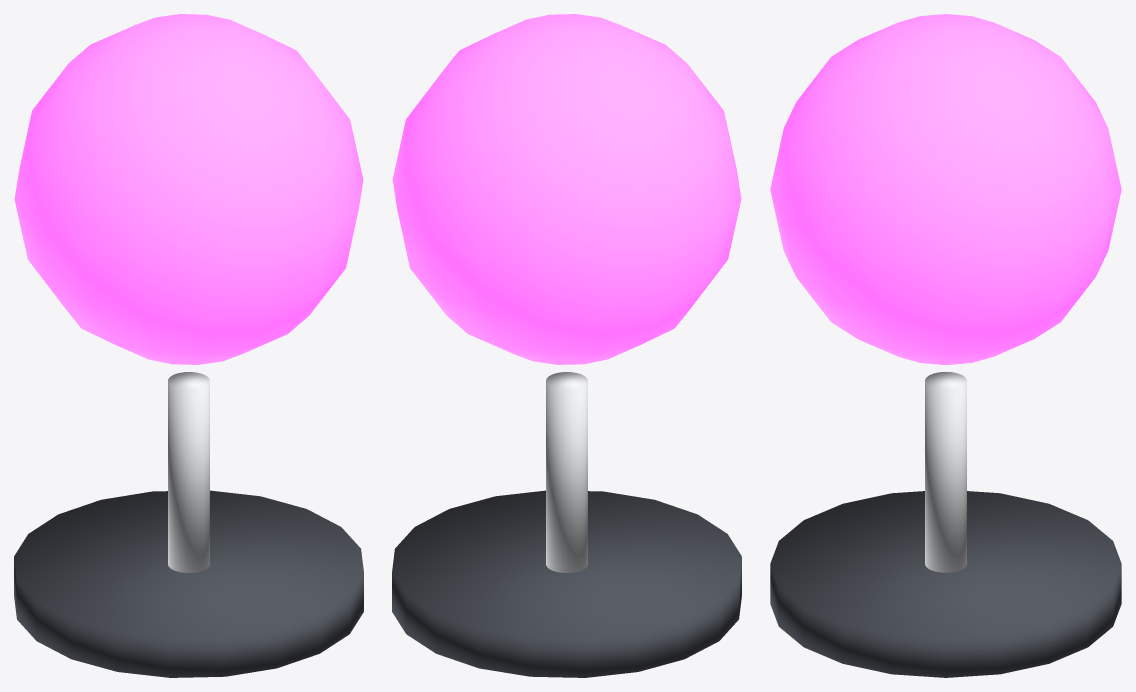
The model's file is table_lamp_orb.glb.
The picture shows the model from 3 angles, left to right: view 1: azimuth 30°, elevation 25°; view 2: azimuth 150°, elevation 25°; view 3: azimuth 270°, elevation 25°; orthographic projection.
Visible parts, largest first — view 1: GD_table_lamp_orb__m2, GD_table_lamp_orb__m0, GD_table_lamp_orb__m1; view 2: GD_table_lamp_orb__m2, GD_table_lamp_orb__m0, GD_table_lamp_orb__m1; view 3: GD_table_lamp_orb__m2, GD_table_lamp_orb__m0, GD_table_lamp_orb__m1.
Boxes of the visible parts, x1,y1,x2,y2 form: GD_table_lamp_orb__m2: (14,14,363,364); GD_table_lamp_orb__m0: (14,490,363,677); GD_table_lamp_orb__m1: (168,372,209,572); GD_table_lamp_orb__m2: (392,14,741,364); GD_table_lamp_orb__m0: (392,490,741,677); GD_table_lamp_orb__m1: (546,372,587,572); GD_table_lamp_orb__m2: (770,14,1121,364); GD_table_lamp_orb__m0: (770,491,1121,677); GD_table_lamp_orb__m1: (925,372,966,572).
Size of the model in its own units: 0.2 by 0.36 by 0.2.
